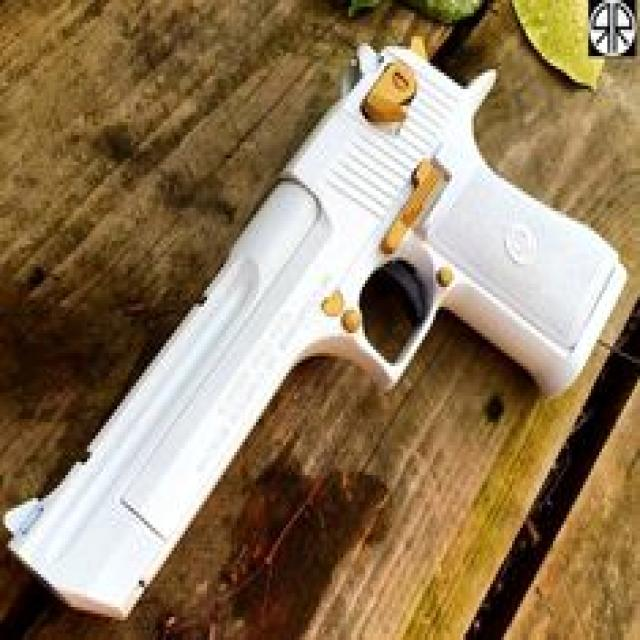semi automatic: (3, 21, 640, 625)
